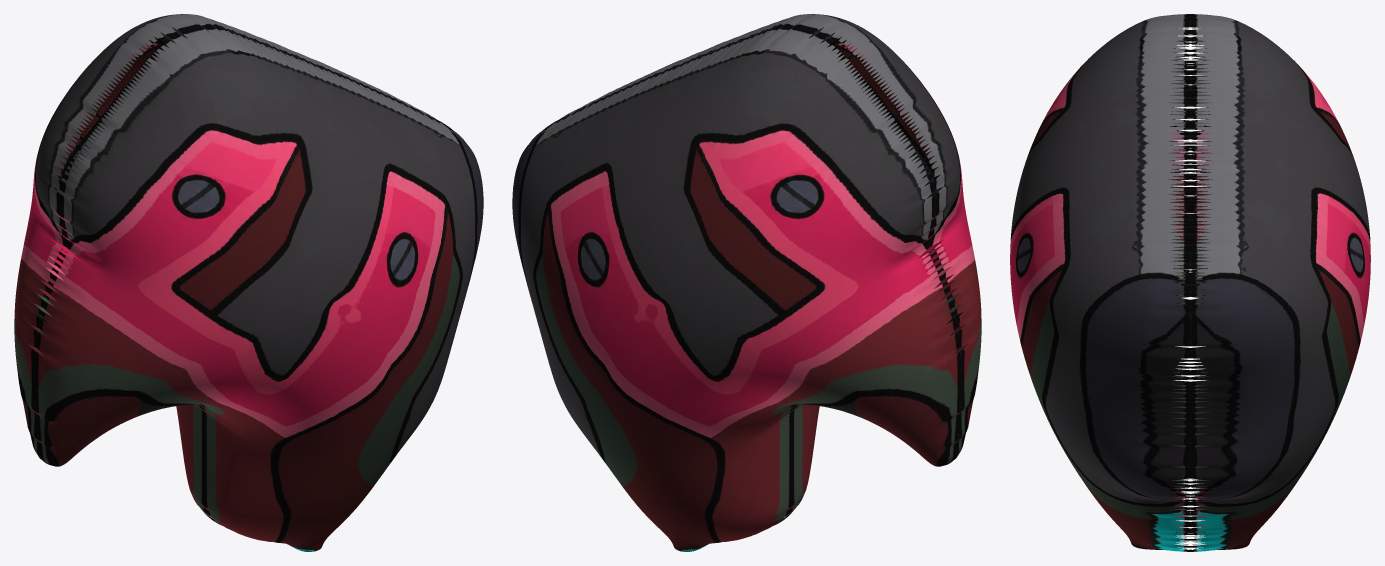
Rendered from front_clamp.glb.
3 renders of one model, left to right at view 1: azimuth 30°, elevation 25°; view 2: azimuth 150°, elevation 25°; view 3: azimuth 270°, elevation 25°, orthographic. The views are drawn at different scales.
Visible parts, largest first — view 1: front_clamp; view 2: front_clamp; view 3: front_clamp.
Boxes of the visible parts, bbox=[...] form: front_clamp: bbox=[14, 14, 483, 551]; front_clamp: bbox=[512, 14, 981, 551]; front_clamp: bbox=[1010, 14, 1370, 551].
Bounding box in the file's own units: 0.9872 × 1.15 × 0.7853.
Materials: 1 (1 with a texture image).
